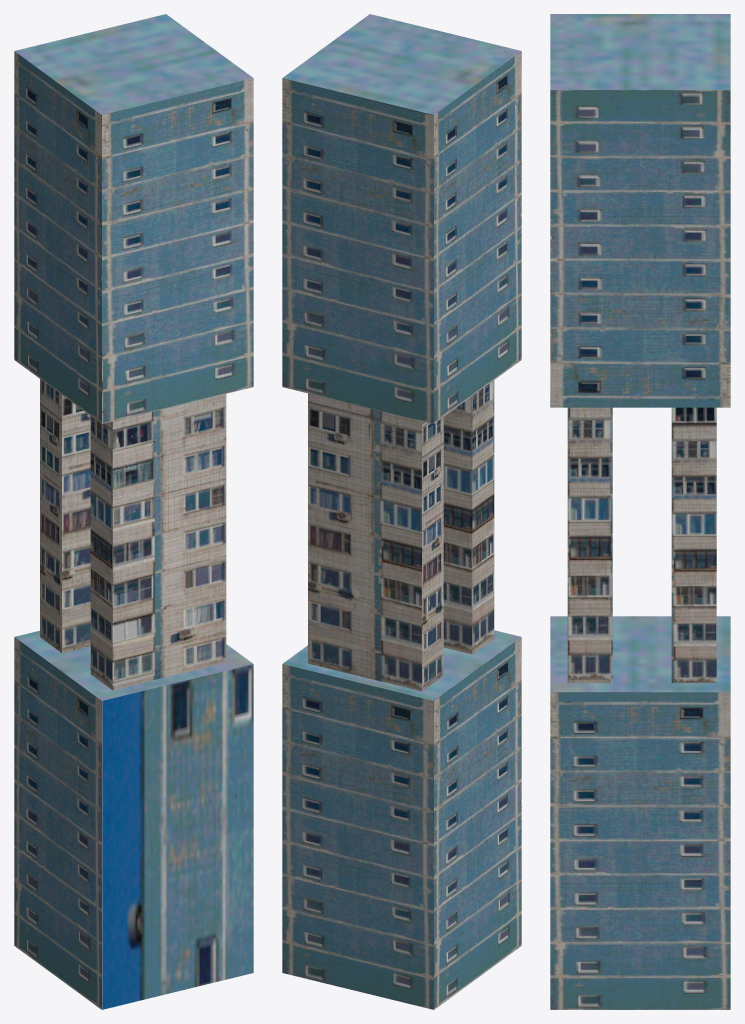
File: house08.glb
3 views of the same model, side by side, from view 1: azimuth 30°, elevation 25°; view 2: azimuth 150°, elevation 25°; view 3: azimuth 270°, elevation 25° (orthographic). The views are drawn at different scales.
Visible parts, largest first — view 1: house08; view 2: house08; view 3: house08.
Boxes of the visible parts, x1=… form: house08: x1=14, y1=14, x2=253, y2=1009; house08: x1=282, y1=14, x2=521, y2=1009; house08: x1=550, y1=14, x2=730, y2=1009.
Bounding box in the file's own units: 2.5 × 14.09 × 2.5.
1 material, 1 textured.
